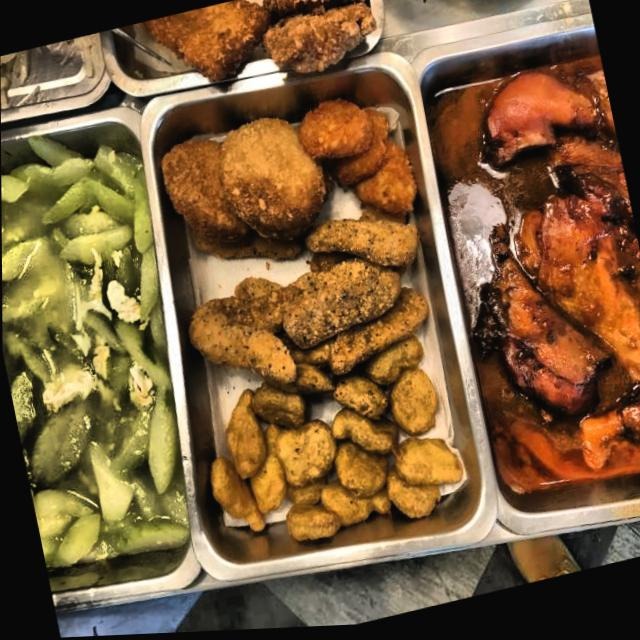Food: (194, 346, 469, 567), (293, 87, 422, 239)
